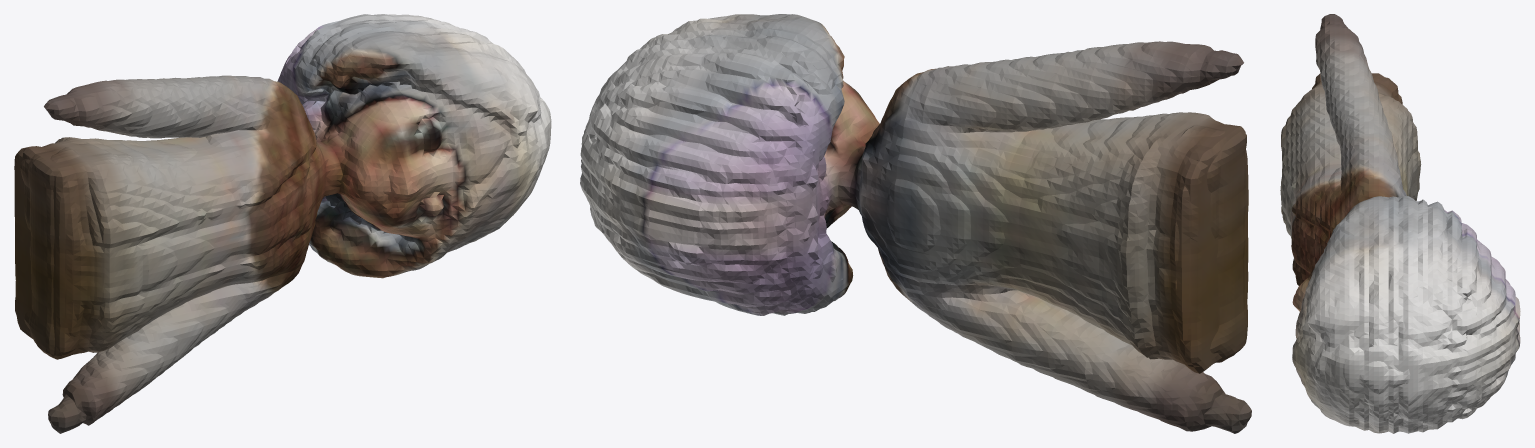
3 renders of one model, left to right at view 1: azimuth 30°, elevation 25°; view 2: azimuth 150°, elevation 25°; view 3: azimuth 270°, elevation 25°, orthographic. The views are drawn at different scales.
Parts seen in each view (by area): view 1: world; view 2: world; view 3: world.
Boxes of the visible parts, x1,y1,x2,y2 form: world: (14, 14, 551, 433); world: (580, 14, 1251, 433); world: (1280, 14, 1520, 433).
Size of the model in its own units: 1 by 0.6013 by 0.4459.
